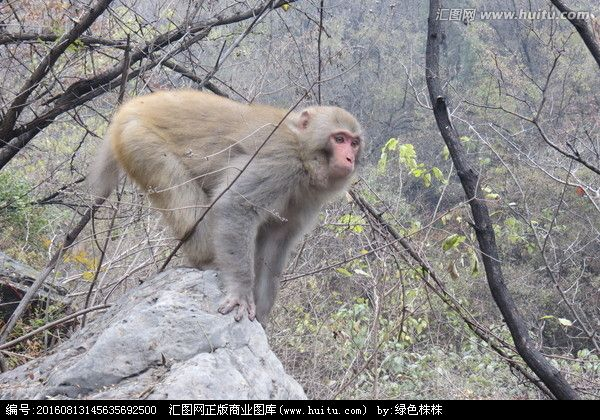monkey: (93, 88, 368, 329)
